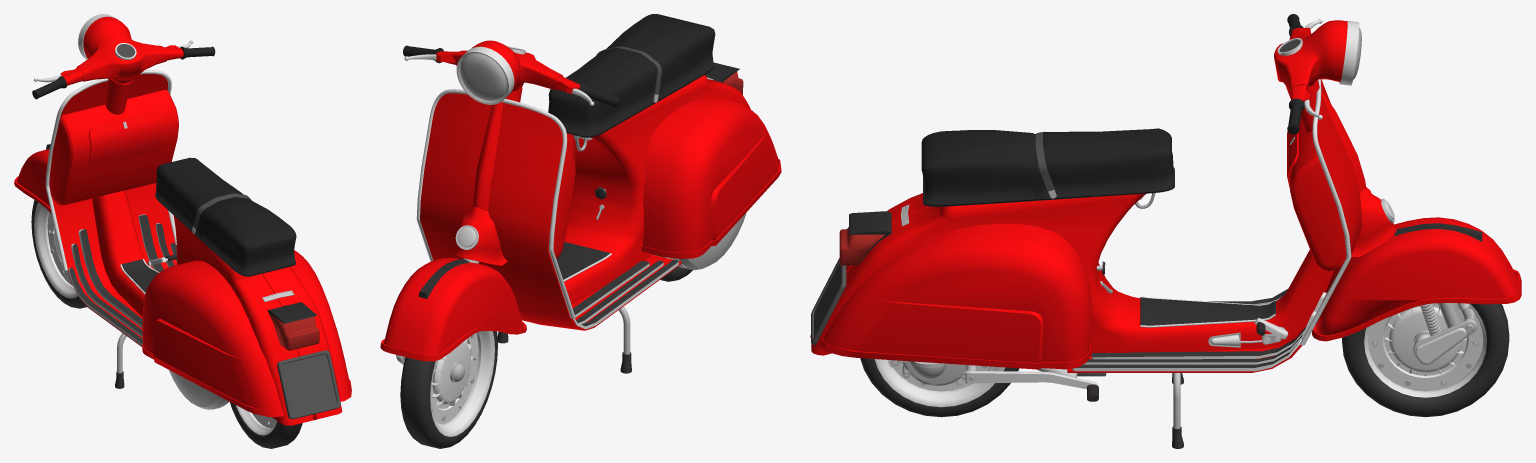
The model's file is scooter.glb.
3 renders of one model, left to right at view 1: azimuth 30°, elevation 25°; view 2: azimuth 150°, elevation 25°; view 3: azimuth 270°, elevation 25°, orthographic. The views are drawn at different scales.
Parts seen in each view (by area): view 1: object 68, object 48, object 10, object 47, object 64, object 43, object 20, object 45, object 49, object 90, object 73, object 42 (+9 smaller); view 2: object 64, object 68, object 48, object 10, object 69, object 90, object 43, object 42, object 20, object 18, object 47, object 46 (+7 smaller); view 3: object 68, object 48, object 10, object 69, object 90, object 64, object 43, object 47, object 73, object 20, object 46, object 42 (+8 smaller).
Part boxes in pixels (x1,y1,x2,y2): object 68: (142,250,351,416); object 48: (92,190,342,425); object 10: (155,157,296,276); object 47: (49,90,178,205); object 64: (52,74,176,346); object 43: (68,214,176,345); object 20: (76,16,167,81); object 45: (277,350,340,419); object 49: (88,113,162,168); object 90: (31,200,86,308); object 73: (230,402,302,448); object 42: (45,70,176,270); object 64: (420,93,681,330); object 68: (566,97,781,258); object 48: (564,75,750,304); object 10: (548,14,715,137); object 69: (384,258,523,355); object 90: (400,331,497,448); object 43: (573,260,678,329); object 42: (416,89,575,318); object 20: (455,40,563,93); object 18: (460,54,506,101); object 47: (549,149,575,258); object 46: (556,242,609,279); object 68: (819,223,1091,369); object 48: (810,193,1334,355); object 10: (921,128,1174,206); object 69: (1315,217,1517,335); object 90: (1342,303,1509,417); object 64: (1067,79,1396,372); object 43: (1072,289,1326,371); object 47: (1290,120,1346,271); object 73: (860,358,1019,417); object 20: (1274,20,1347,96); object 46: (1140,297,1275,325); object 42: (1300,79,1351,345).
Bounding box in the file's own units: 2.17 × 3.56 × 5.88.
